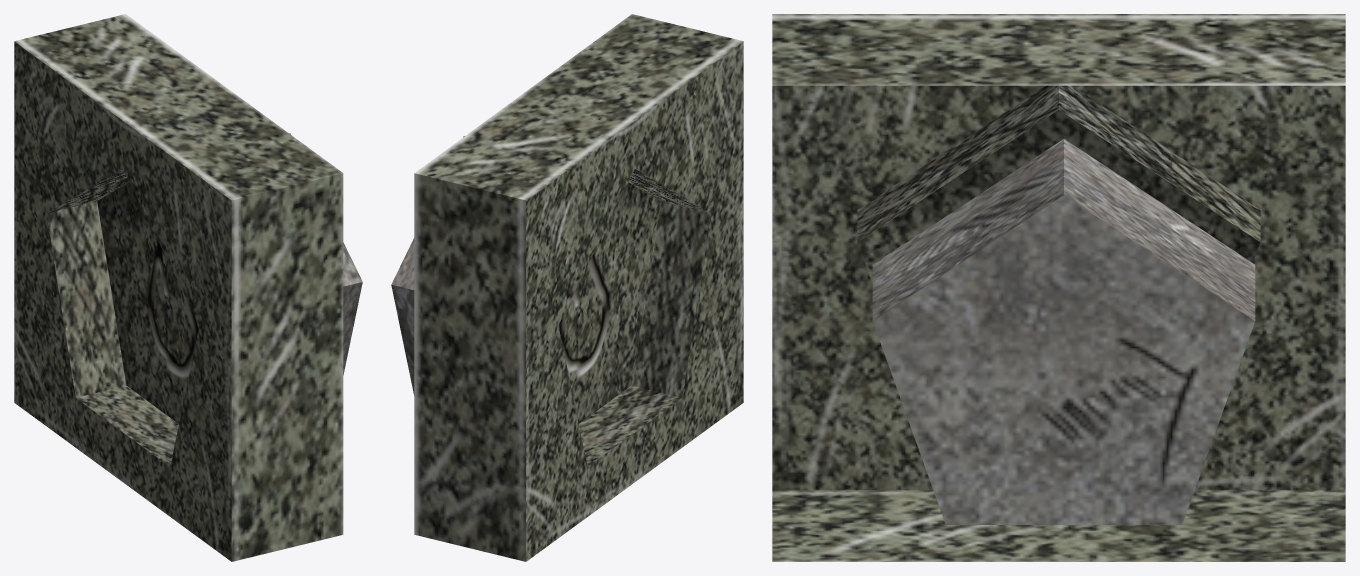
File: socle_feu.fbx
3 renders of one model, left to right at view 1: azimuth 30°, elevation 25°; view 2: azimuth 150°, elevation 25°; view 3: azimuth 270°, elevation 25°, orthographic. The views are drawn at different scales.
Visible parts, largest first — view 1: socle_feu, glyphe_feu; view 2: socle_feu, glyphe_feu; view 3: socle_feu, glyphe_feu.
Boxes of the visible parts, box(x1,y1,x2,y2) form: socle_feu: box(14, 14, 343, 561); glyphe_feu: box(289, 133, 362, 375); socle_feu: box(414, 14, 743, 561); glyphe_feu: box(391, 136, 464, 395); socle_feu: box(772, 14, 1345, 561); glyphe_feu: box(872, 139, 1255, 524).
Size of the model in its own units: 9.44 by 19.27 by 21.03.
